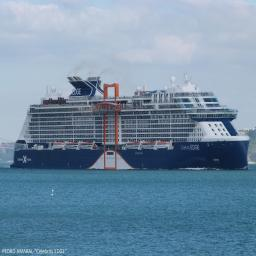cruises: (10, 70, 251, 175)
